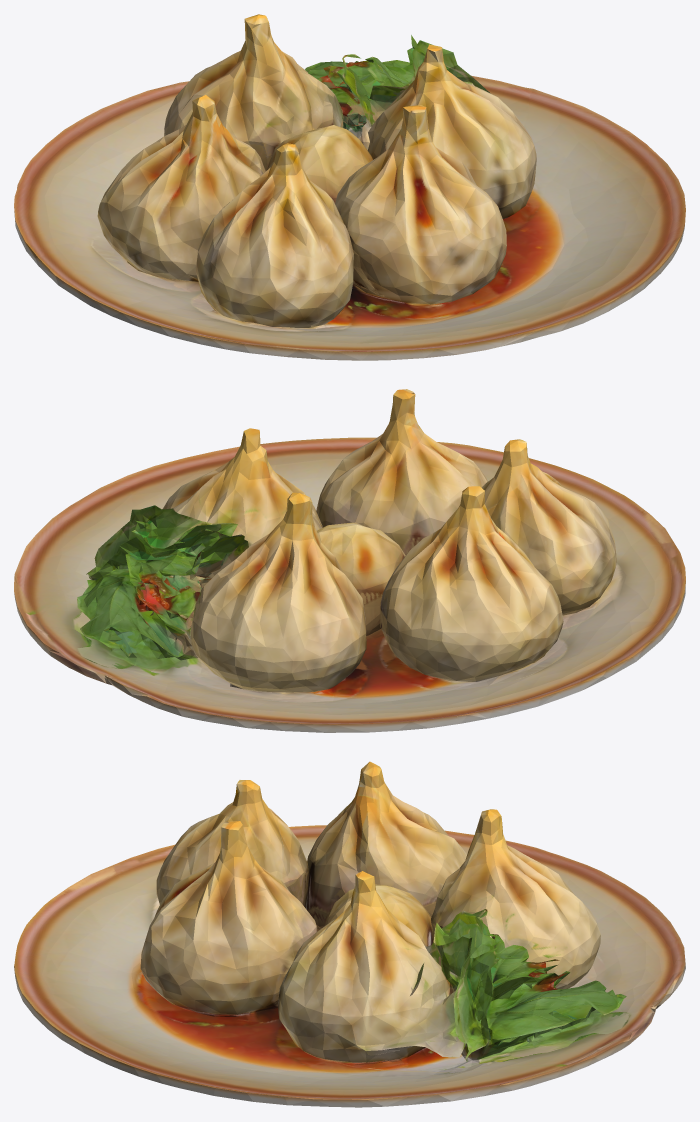
Rendered from momo.fbx.
3 views of the same model, one above another, from view 1: azimuth 30°, elevation 25°; view 2: azimuth 150°, elevation 25°; view 3: azimuth 270°, elevation 25° (orthographic). The views are drawn at different scales.
Visible parts, largest first — view 1: temp; view 2: temp; view 3: temp.
Boxes of the visible parts, x1,y1,x2,y2 form: temp: (14,14,685,360); temp: (14,389,685,732); temp: (14,761,685,1107).
Size of the model in its own units: 139 by 42.17 by 144.
1 material, 1 textured.
